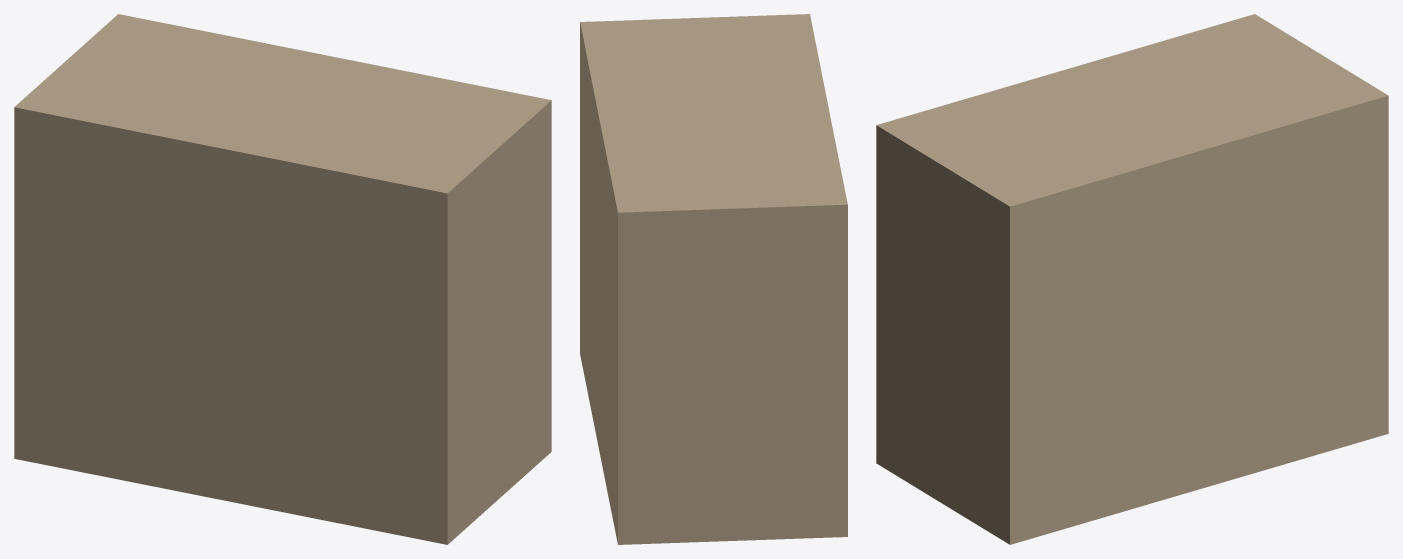
File: bld_164605955.dae
3 views of the same model, side by side, from view 1: azimuth 30°, elevation 25°; view 2: azimuth 150°, elevation 25°; view 3: azimuth 270°, elevation 25° (orthographic). The views are drawn at different scales.
Parts seen in each view (by area): view 1: bld_164605955; view 2: bld_164605955; view 3: bld_164605955.
Boxes of the visible parts, x1,y1,x2,y2 form: bld_164605955: (14,14,551,544); bld_164605955: (580,14,847,544); bld_164605955: (876,14,1388,544).
Size of the model in its own units: 9.77 by 10.98 by 8.
